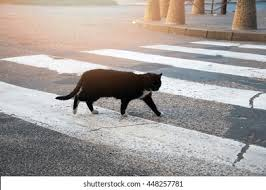cat: (55, 68, 165, 120)
